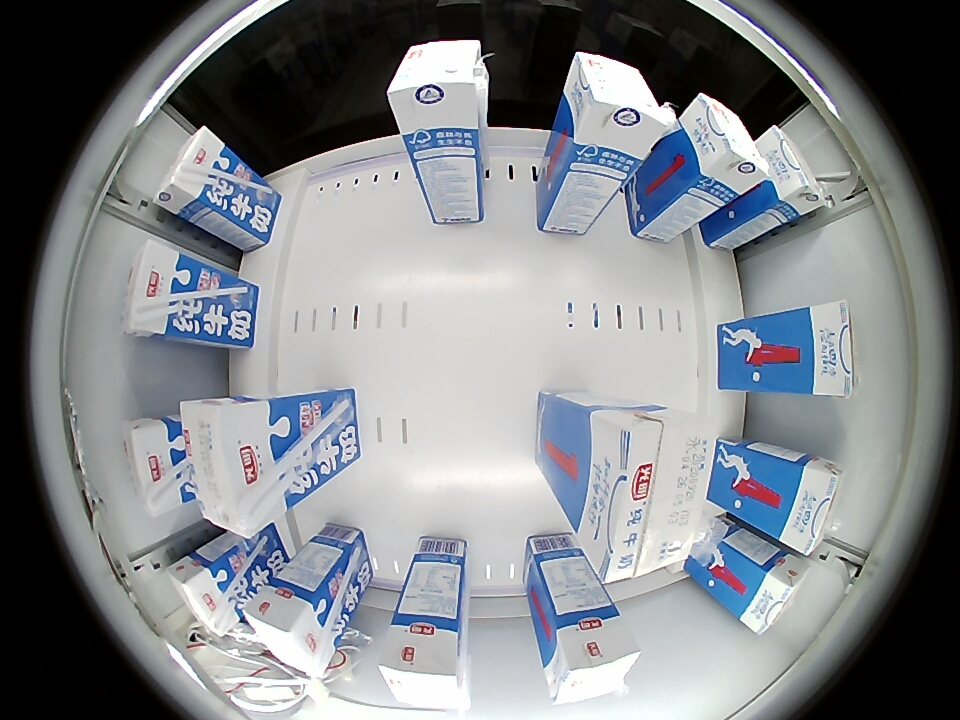niunai: (581, 406, 715, 583), (180, 395, 292, 540), (562, 52, 674, 162), (679, 91, 772, 198), (544, 607, 641, 705), (387, 40, 487, 135), (242, 579, 335, 676), (378, 618, 470, 712), (773, 453, 845, 556), (155, 126, 231, 221), (122, 242, 190, 340), (734, 548, 810, 635), (168, 553, 243, 639), (760, 125, 827, 219), (122, 415, 181, 517), (800, 301, 857, 398)
